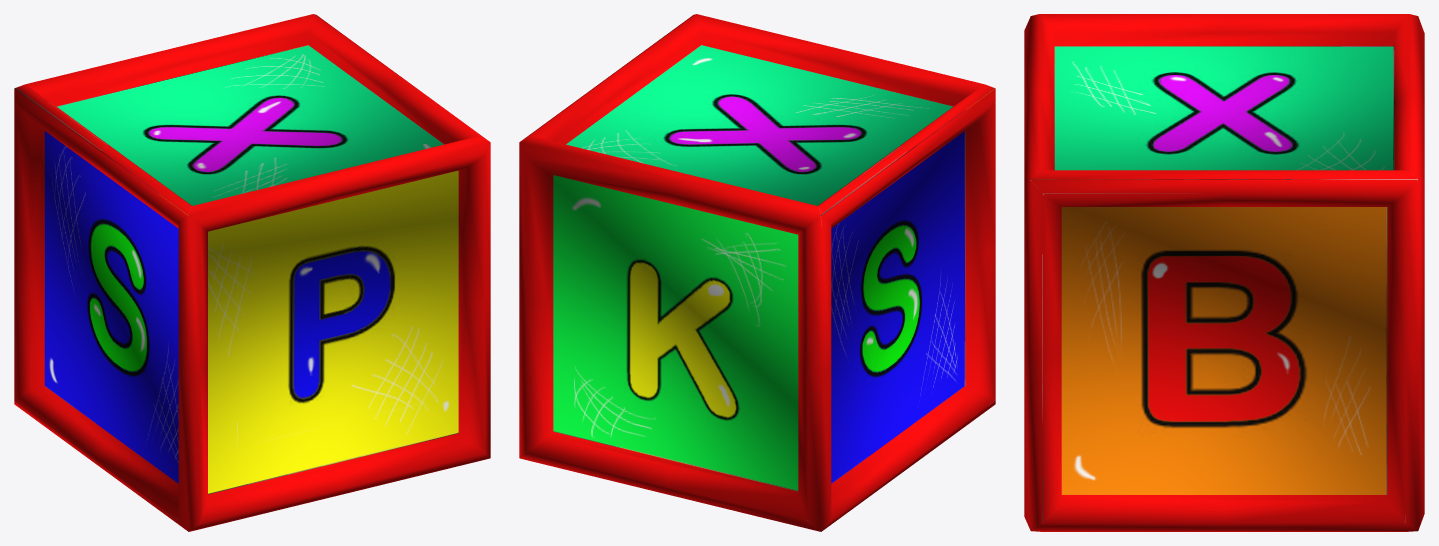
The model's file is CuboGiocattolo.fbx.
3 views of the same model, side by side, from view 1: azimuth 30°, elevation 25°; view 2: azimuth 150°, elevation 25°; view 3: azimuth 270°, elevation 25° (orthographic). The views are drawn at different scales.
Parts seen in each view (by area): view 1: Cube; view 2: Cube; view 3: Cube.
Boxes of the visible parts, bbox=[...] form: Cube: bbox=[14, 14, 490, 531]; Cube: bbox=[519, 14, 995, 531]; Cube: bbox=[1024, 14, 1424, 531].
Size of the model in its own units: 2 by 2 by 2.
